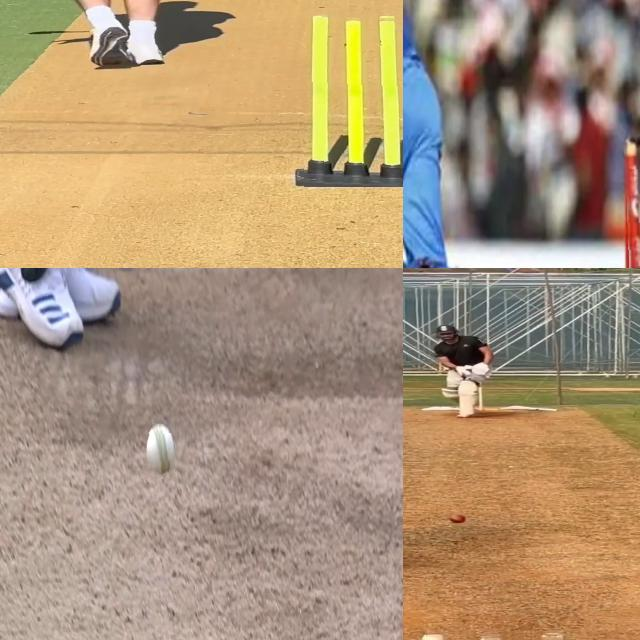Cricket ball: (144, 420, 175, 479), (449, 514, 467, 524)
Stumps: (292, 13, 403, 187)
